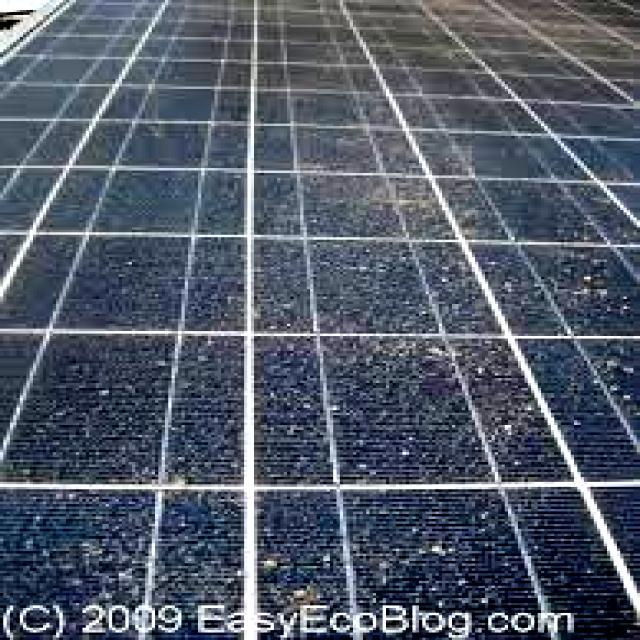dust: (208, 45, 384, 238), (384, 194, 628, 328), (169, 356, 391, 498), (411, 21, 618, 162), (415, 348, 631, 474), (341, 511, 638, 598), (16, 511, 318, 593), (3, 344, 156, 479), (28, 182, 178, 304), (194, 260, 384, 332)
